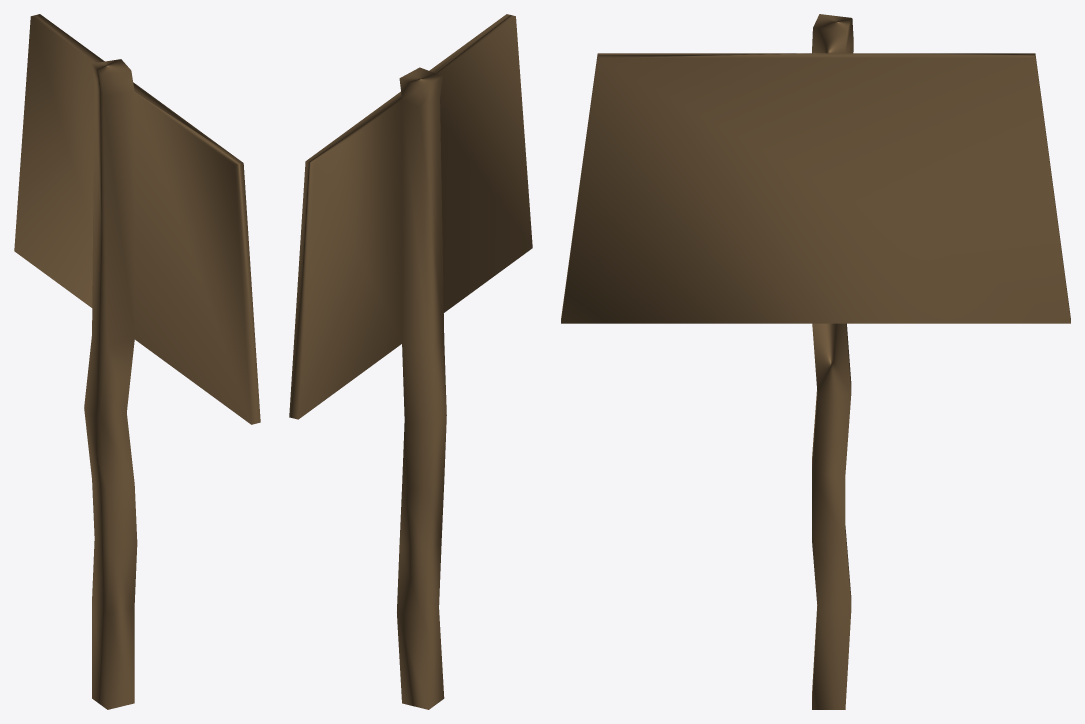
File: SignSmall.fbx
3 renders of one model, left to right at view 1: azimuth 30°, elevation 25°; view 2: azimuth 150°, elevation 25°; view 3: azimuth 270°, elevation 25°, orthographic. The views are drawn at different scales.
Parts seen in each view (by area): view 1: Cube; view 2: Cube; view 3: Cube.
Part boxes in pixels (x1,y1,x2,y2): Cube: (14,14,260,709); Cube: (289,14,532,709); Cube: (561,14,1070,709).
Bounding box in the file's own units: 71.33 × 1036 × 703.
